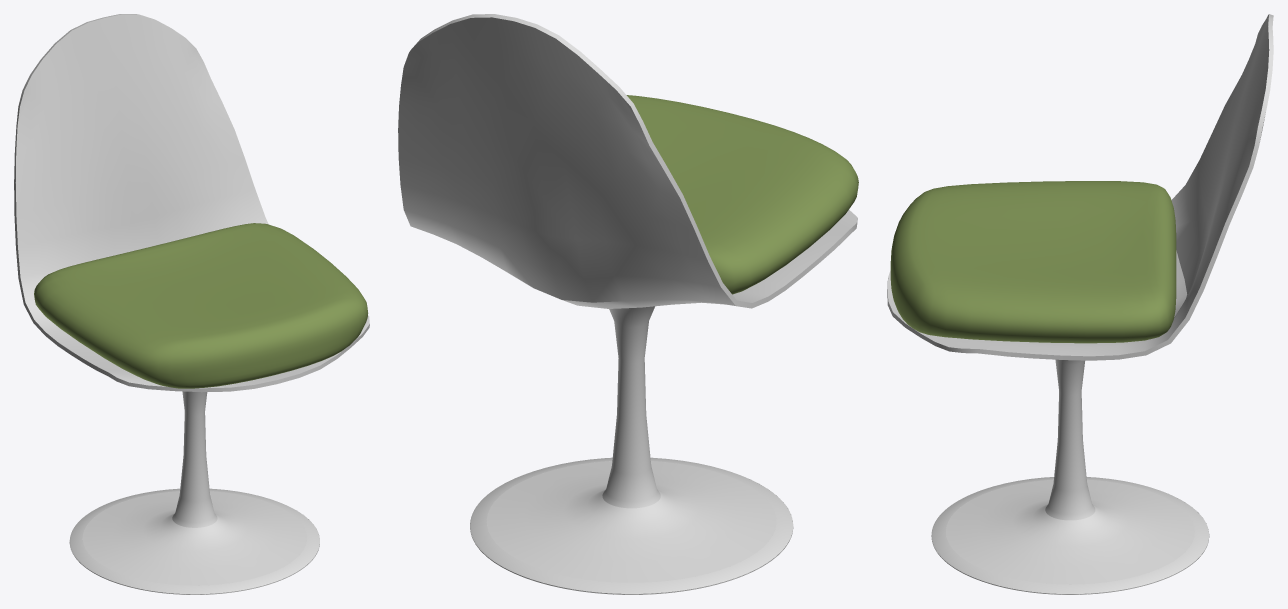
File: sillaBlanca.glb
3 views of the same model, side by side, from view 1: azimuth 30°, elevation 25°; view 2: azimuth 150°, elevation 25°; view 3: azimuth 270°, elevation 25° (orthographic). The views are drawn at different scales.
Parts seen in each view (by area): view 1: Plane, Cube, Plane.001; view 2: Plane, Plane.001, Cube; view 3: Cube, Plane.001, Plane.
Part boxes in pixels (left/top/right/bottom): Plane: left=14, top=14, right=369, bottom=392; Cube: left=34, top=223, right=368, bottom=388; Plane.001: left=69, top=391, right=319, bottom=594; Plane: left=398, top=14, right=857, bottom=308; Plane.001: left=470, top=306, right=793, bottom=594; Cube: left=626, top=95, right=858, bottom=294; Cube: left=890, top=181, right=1176, bottom=343; Plane.001: left=931, top=359, right=1209, bottom=594; Plane: left=887, top=14, right=1273, bottom=360.
Bounding box in the file's own units: 0.505 × 0.8503 × 0.5838.
